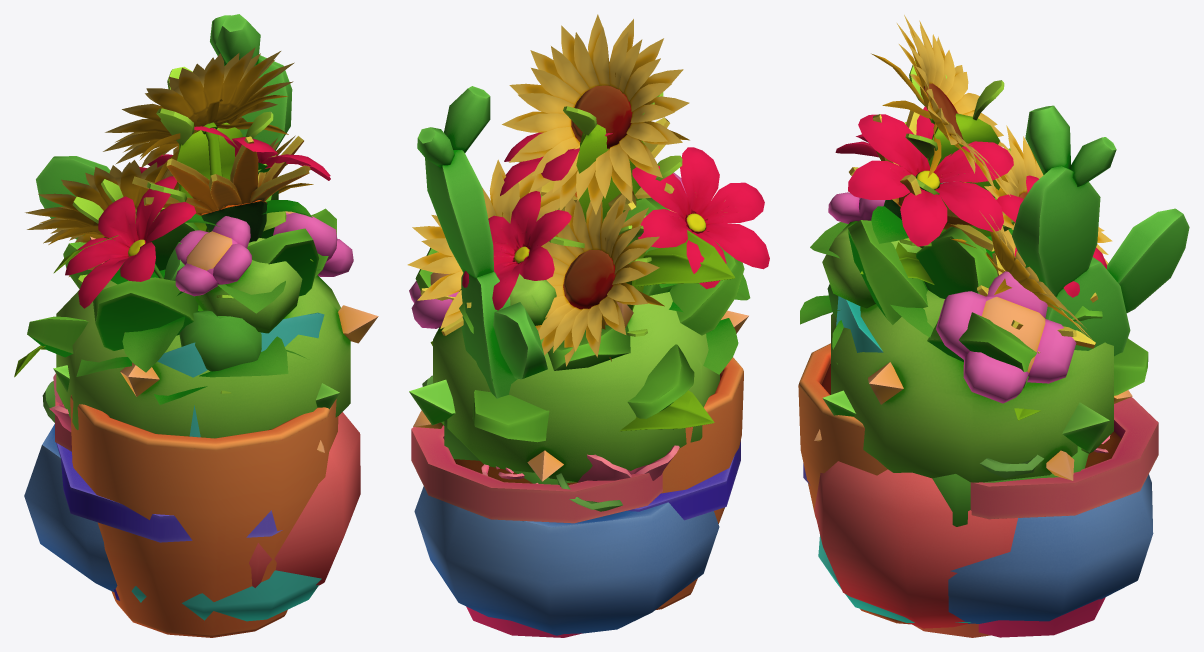
Rendered from tree.fbx.
3 renders of one model, left to right at view 1: azimuth 30°, elevation 25°; view 2: azimuth 150°, elevation 25°; view 3: azimuth 270°, elevation 25°, orthographic. The views are drawn at different scales.
Visible parts, largest first — view 1: chau_10, chau_7, chau_1, chau_5, chau_4, chau_2, chau_3, chau_8, chau_6; view 2: chau_4, chau_3, chau_8, chau_7, chau_10, chau_5, chau_2, chau_6, chau_1; view 3: chau_7, chau_8, chau_1, chau_10, chau_3, chau_5, chau_4, chau_6, chau_2.
Boxes of the visible parts, x1,y1,x2,y2 form: chau_10: [65, 126, 338, 637]; chau_7: [56, 211, 378, 452]; chau_1: [132, 136, 360, 587]; chau_5: [27, 190, 336, 621]; chau_4: [14, 47, 313, 377]; chau_2: [56, 66, 286, 600]; chau_3: [24, 373, 117, 591]; chau_8: [36, 14, 292, 451]; chau_6: [53, 365, 339, 409]; chau_4: [407, 14, 734, 431]; chau_3: [414, 375, 719, 635]; chau_8: [411, 86, 662, 637]; chau_7: [409, 172, 748, 482]; chau_10: [462, 132, 769, 609]; chau_5: [415, 195, 744, 442]; chau_2: [549, 92, 740, 590]; chau_6: [409, 379, 673, 484]; chau_1: [420, 117, 674, 335]; chau_7: [814, 192, 1132, 637]; chau_8: [970, 105, 1189, 637]; chau_1: [814, 110, 1098, 628]; chau_10: [798, 106, 1106, 624]; chau_3: [948, 435, 1153, 623]; chau_5: [818, 220, 1148, 622]; chau_4: [860, 15, 1112, 420]; chau_6: [822, 390, 1109, 526]; chau_2: [803, 61, 1014, 484].
Bounding box in the file's own units: 91.31 × 155 × 96.58.
Materials: 9 (9 with a texture image).
